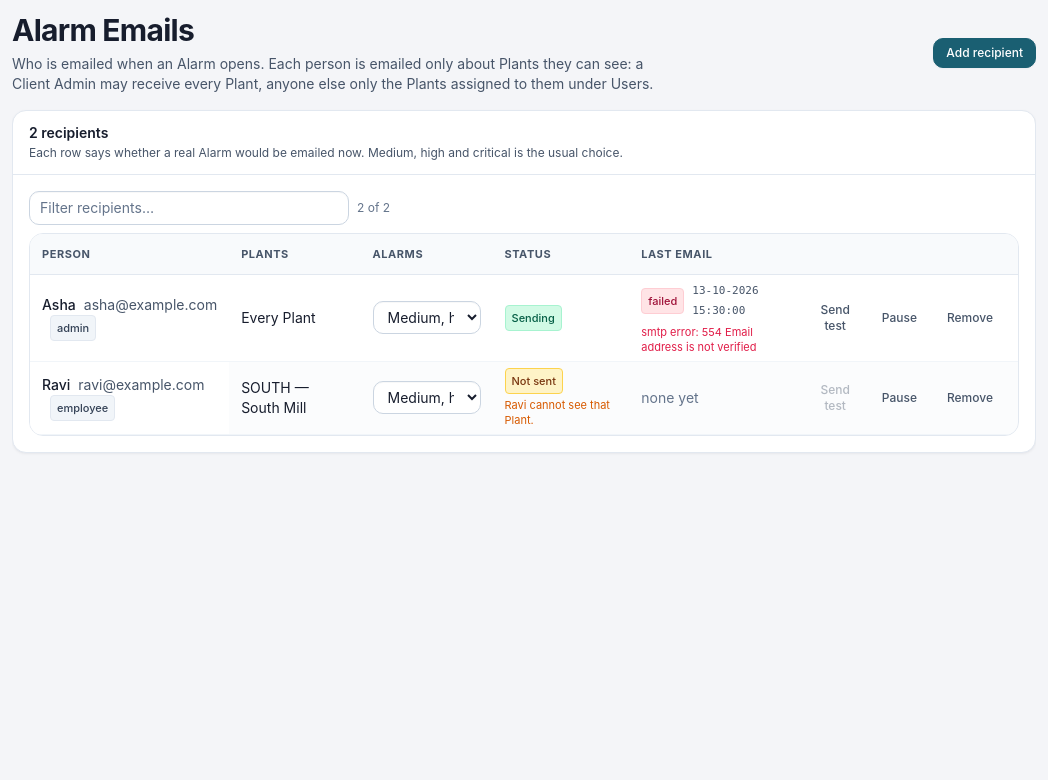
Scenario: Alarm Emails › says when someone has no Plants to be emailed about
Click the button "Add recipient". click: (985, 53)
box: [933,38,1036,68]
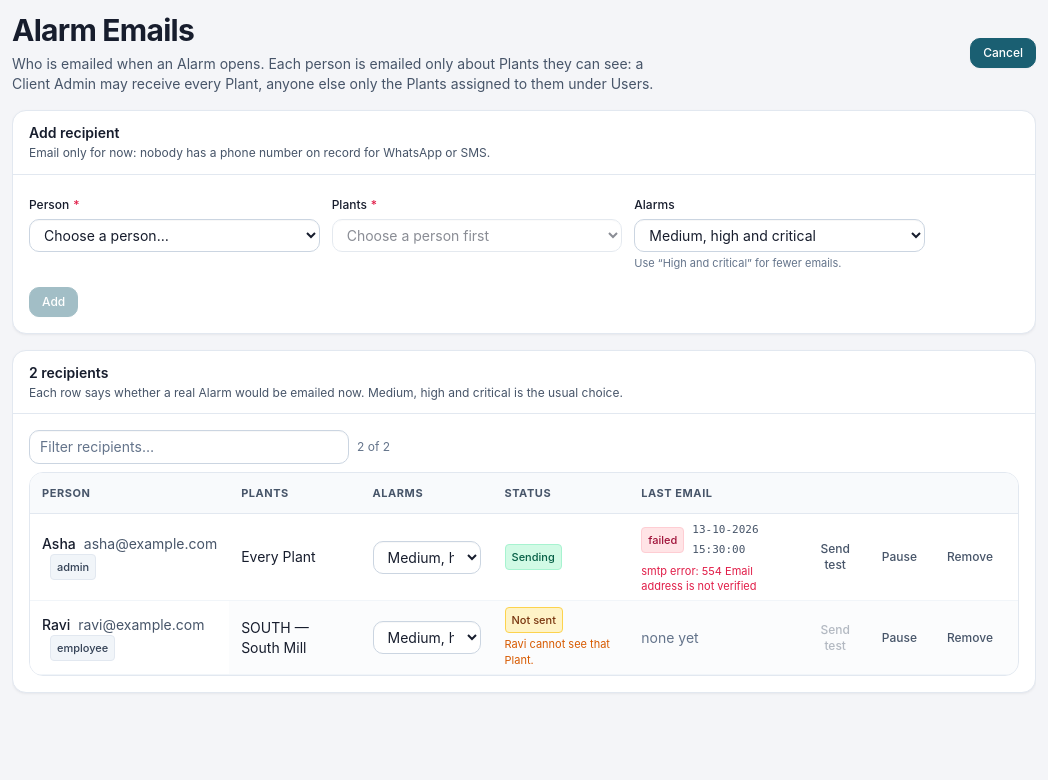
Select "Ravi (ravi@example.com) · employee" in the dropdown labelled "Person*". click: (174, 235)
box: [29,218,320,252]
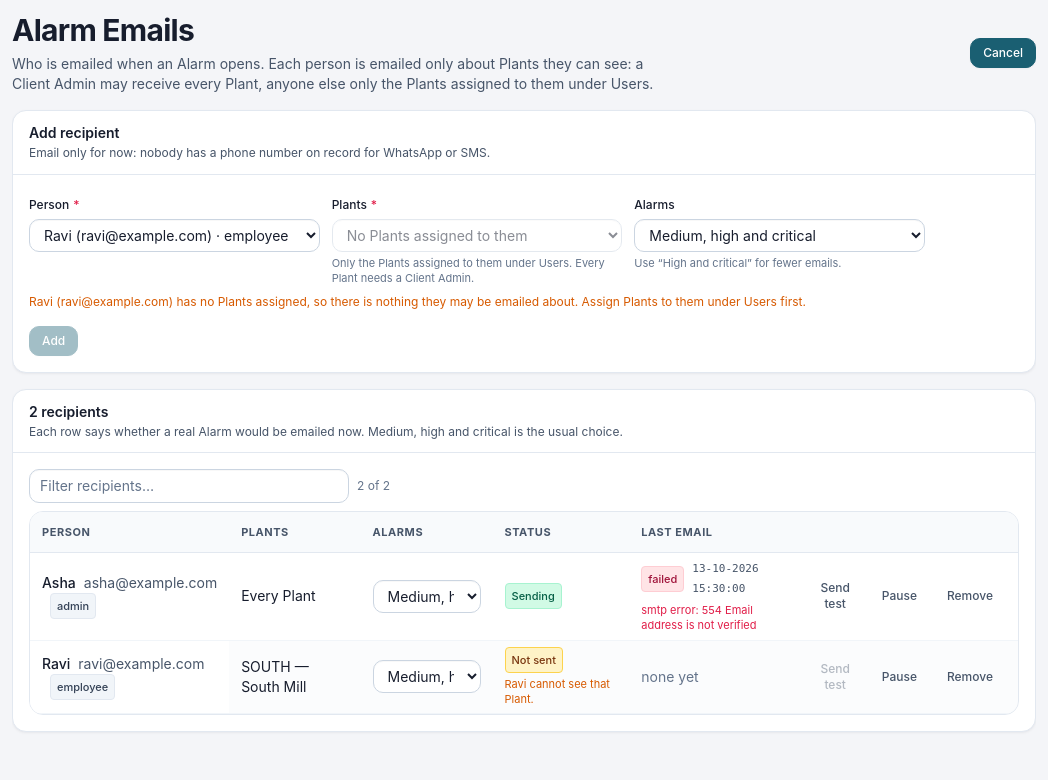
Result: the button "Add" is disabled at [29,326,78,356]
Result: the text "has no Plants assigned" is shown at [173,294,806,309]
